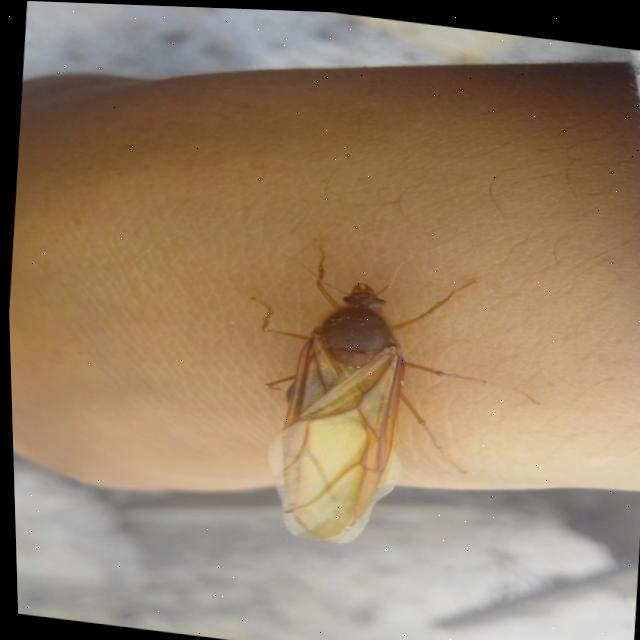Alive-Male-Alate: (226, 236, 551, 564)
